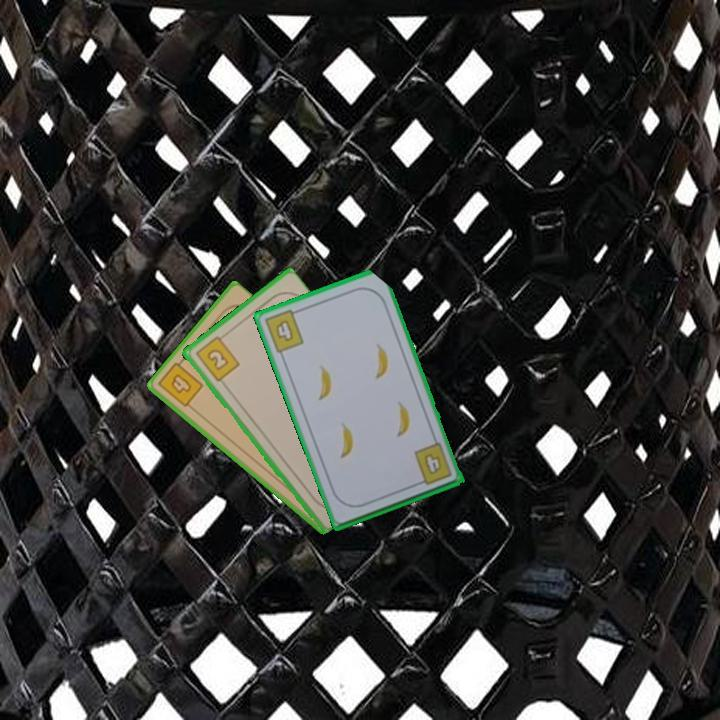2b: (192, 330, 242, 384)
4b: (155, 355, 206, 410), (260, 305, 307, 356), (422, 449, 442, 475)
